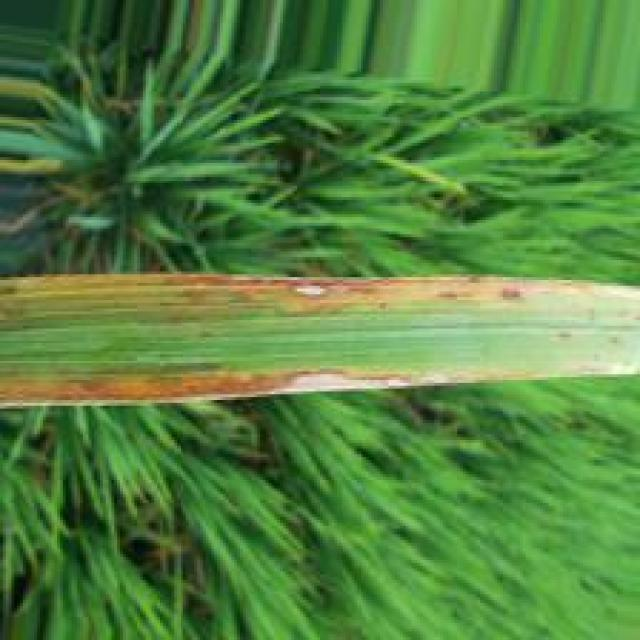Narrow_Brown_Leaf_Spot: (0, 271, 627, 320), (0, 361, 593, 408)
